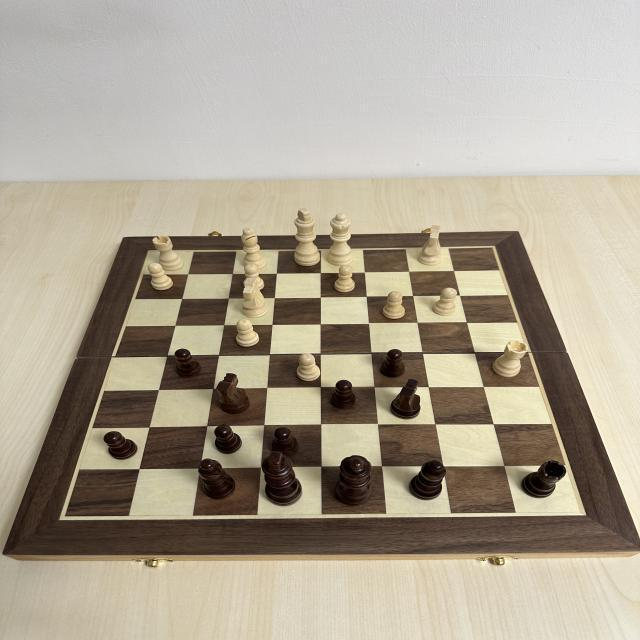chess-table-corners: (52, 509, 76, 524), (574, 507, 592, 518), (486, 242, 500, 252), (145, 245, 154, 258)
